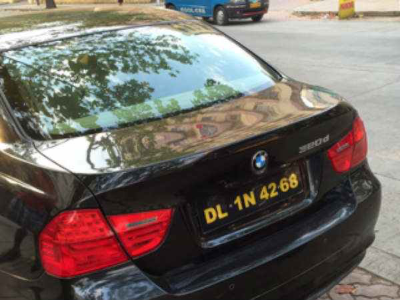licence: (197, 158, 304, 245)
